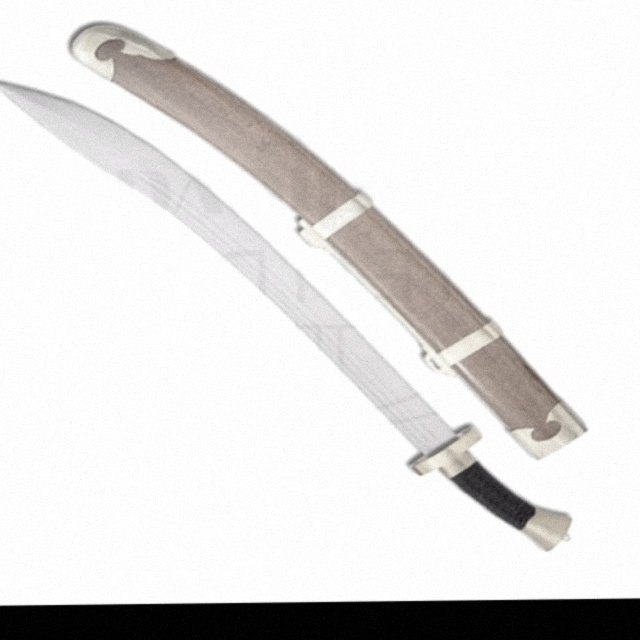Sharp-Object: (0, 70, 575, 563)
